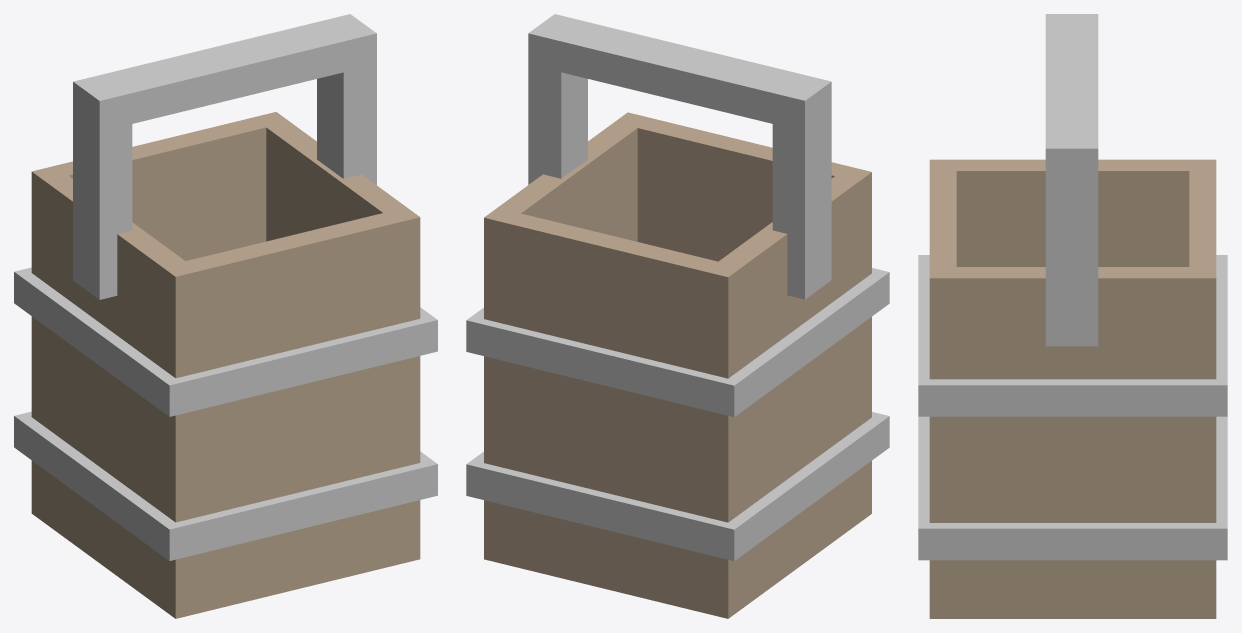
The model's file is empty bucket.fbx.
3 views of the same model, side by side, from view 1: azimuth 30°, elevation 25°; view 2: azimuth 150°, elevation 25°; view 3: azimuth 270°, elevation 25° (orthographic).
Parts seen in each view (by area): view 1: Boole_2; view 2: Boole_2; view 3: Boole_2.
Boxes of the visible parts, x1=… form: Boole_2: x1=14, y1=14, x2=437, y2=618; Boole_2: x1=466, y1=14, x2=889, y2=618; Boole_2: x1=918, y1=14, x2=1227, y2=618.
Size of the model in its own units: 147 by 244 by 143.
